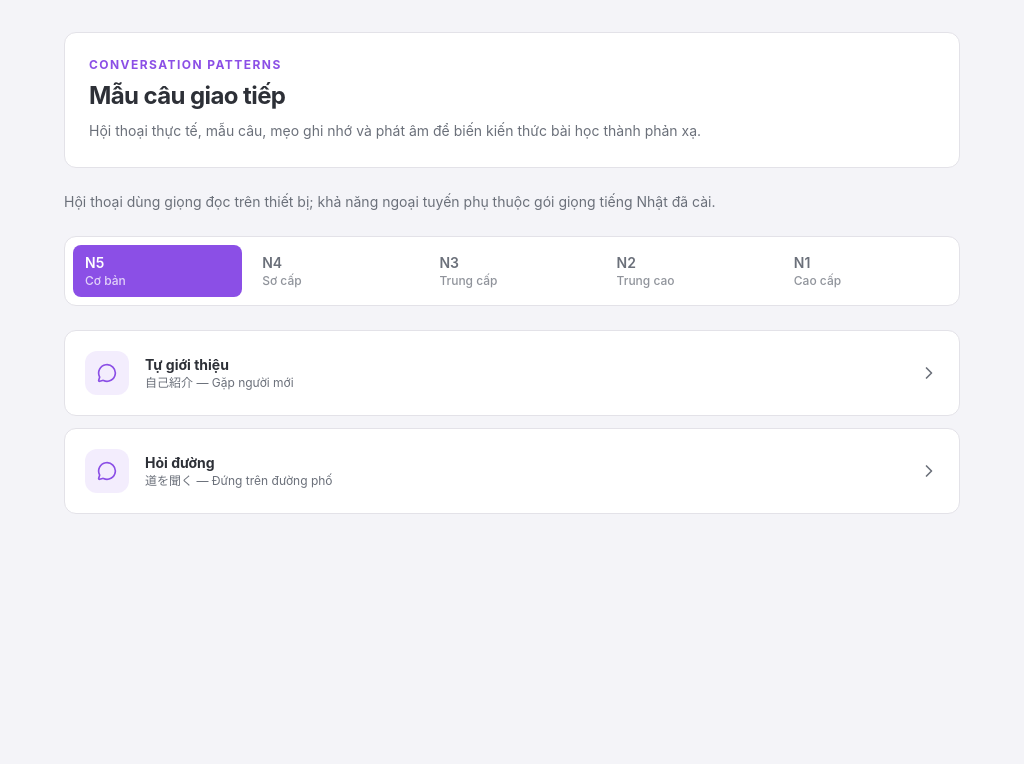
Test case: Conversations Page › expand/collapse › expands a card on click
The width and height of the screenshot is (1024, 764).
Click the heading "Tự giới thiệu": (187, 364) [145,356,229,373]
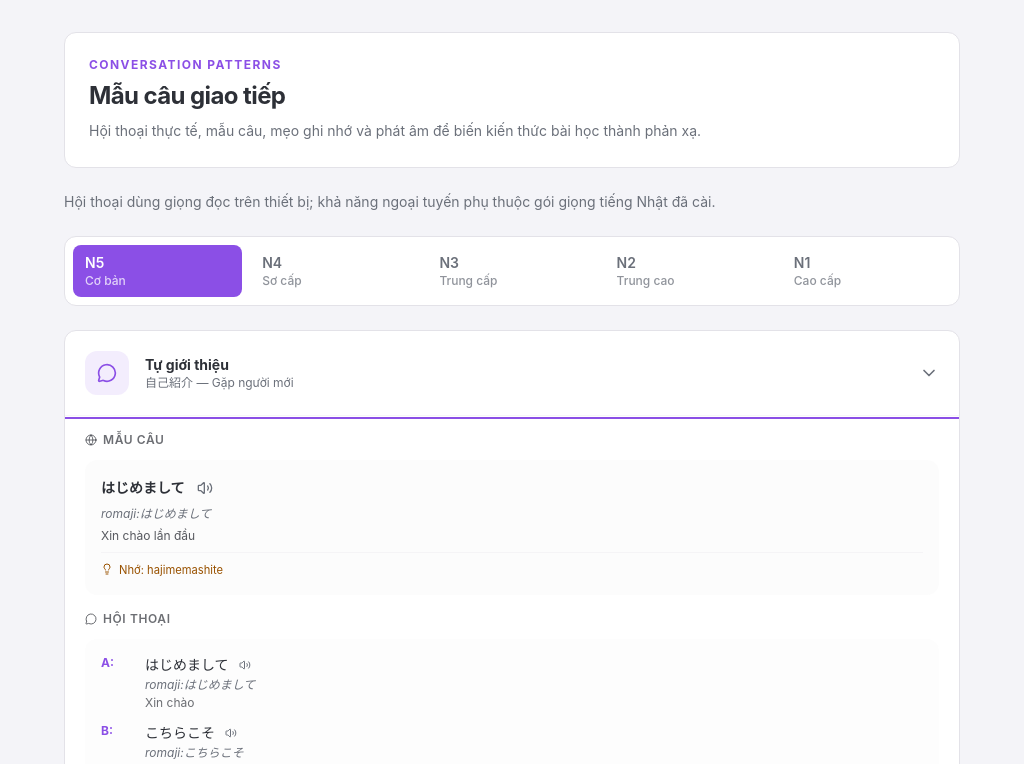
Result: the heading "Mẫu câu" is shown at [85,432,164,447]
Result: the heading "Hội thoại" is shown at [85,611,171,626]
